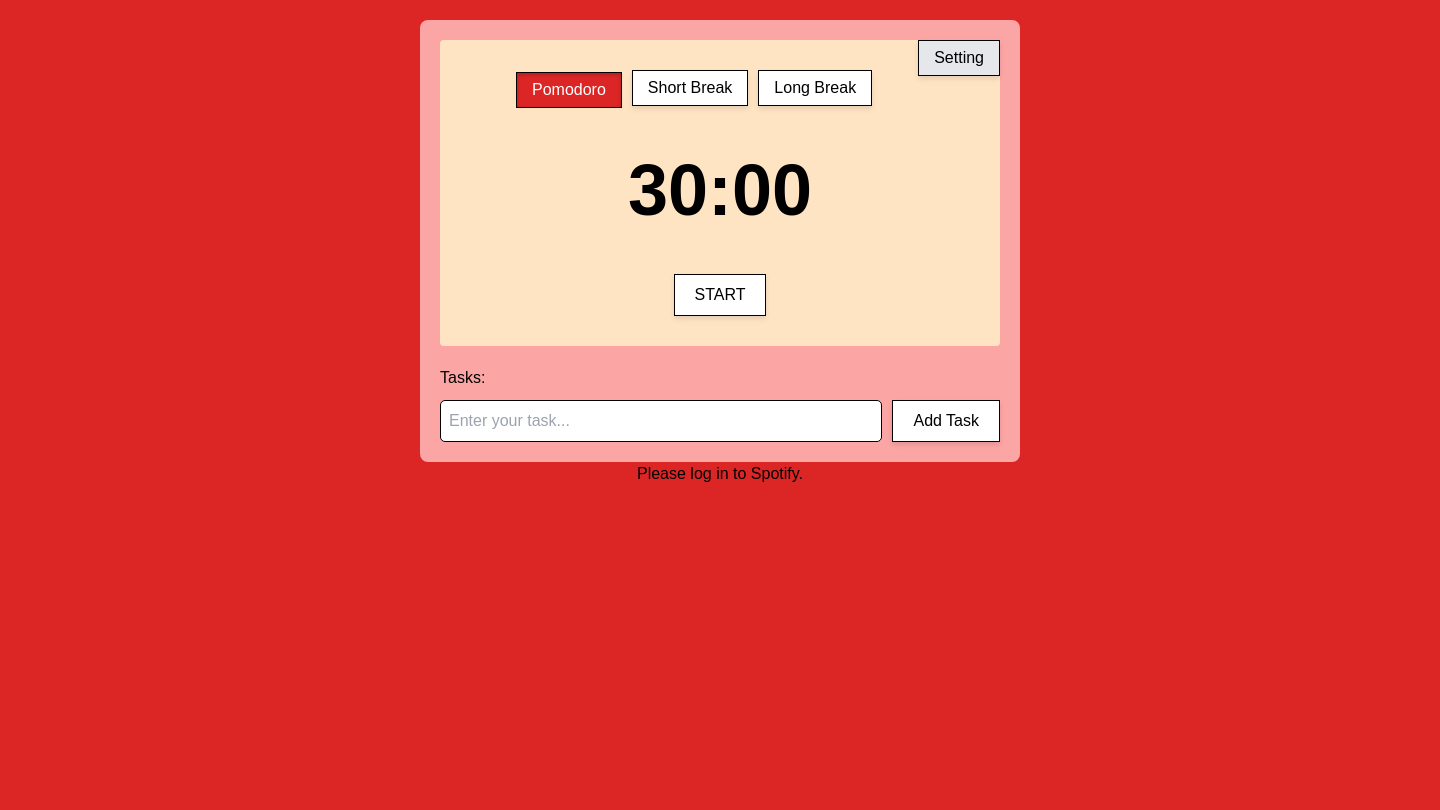
Test: Timer Component › can switch to short break
Click the button "Short Break" at [690, 88], box [632,70,748,106]
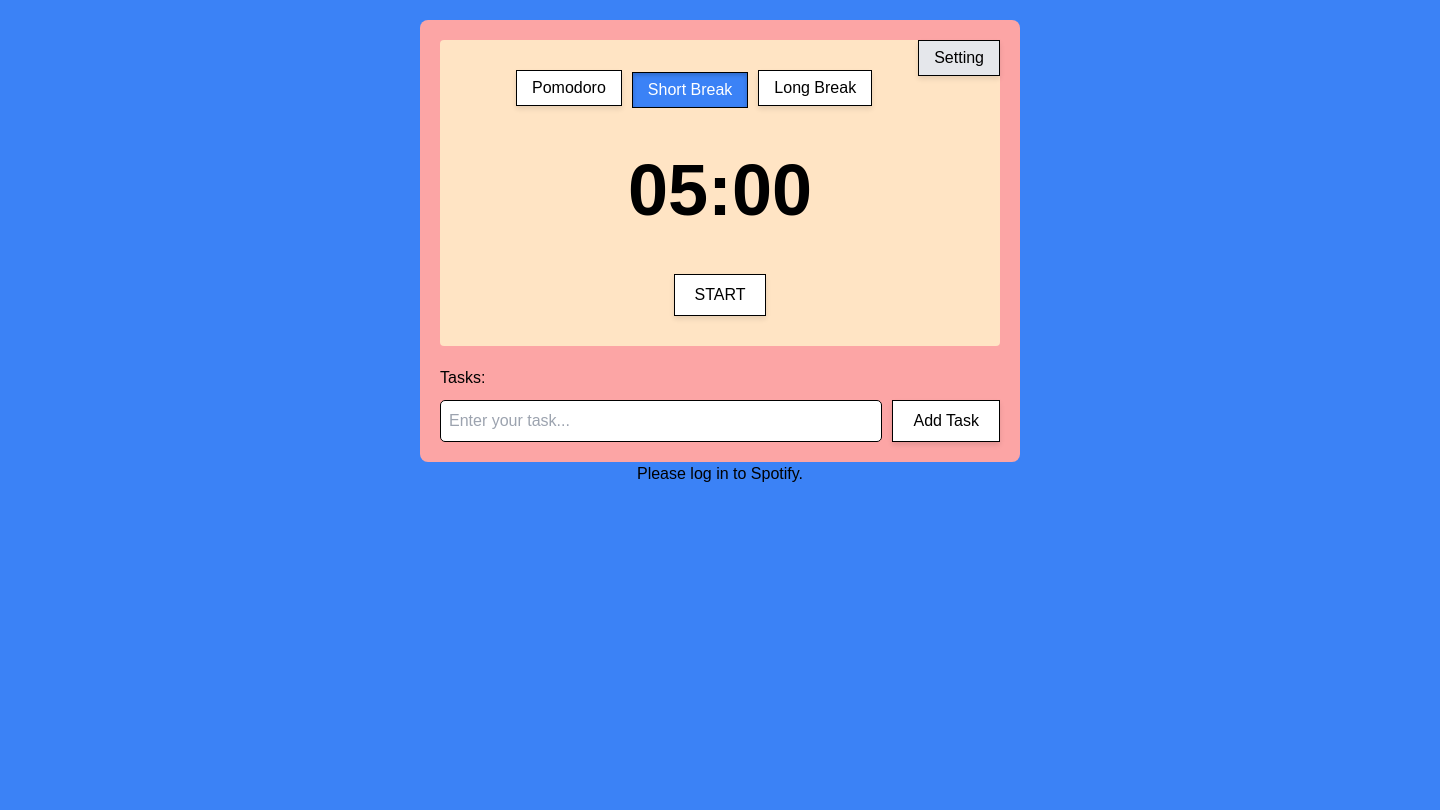
Expected: the text "05:00" is shown, [628,150,812,230]
